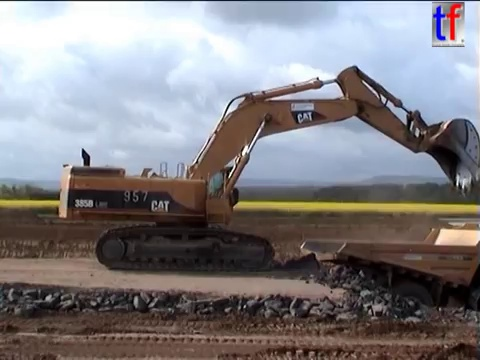excavator: (55, 62, 479, 274)
truck: (297, 219, 480, 332)
